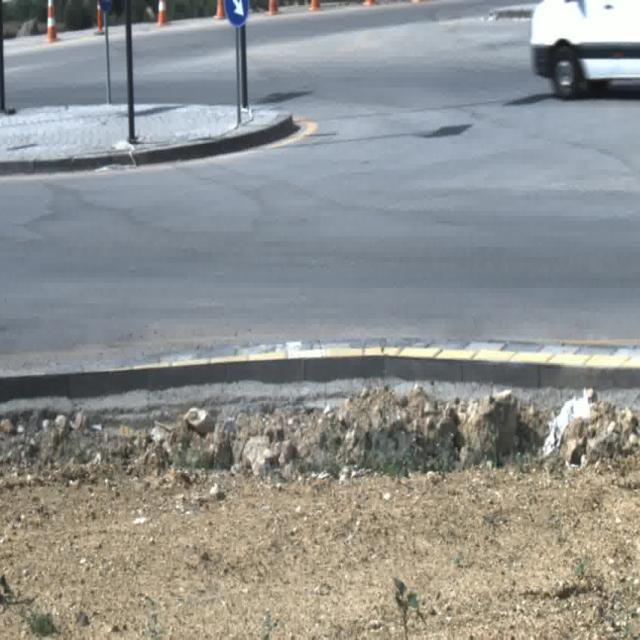Car: (527, 0, 640, 102)
